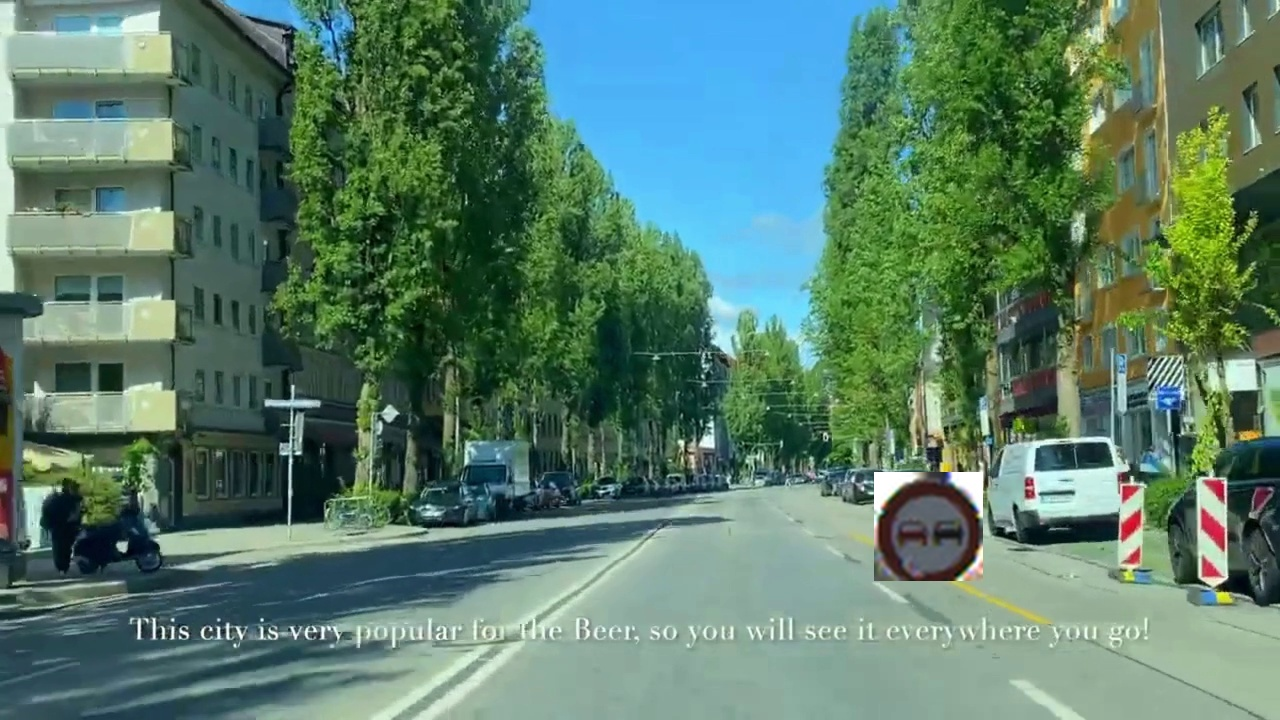No passing: (874, 472, 983, 581)
